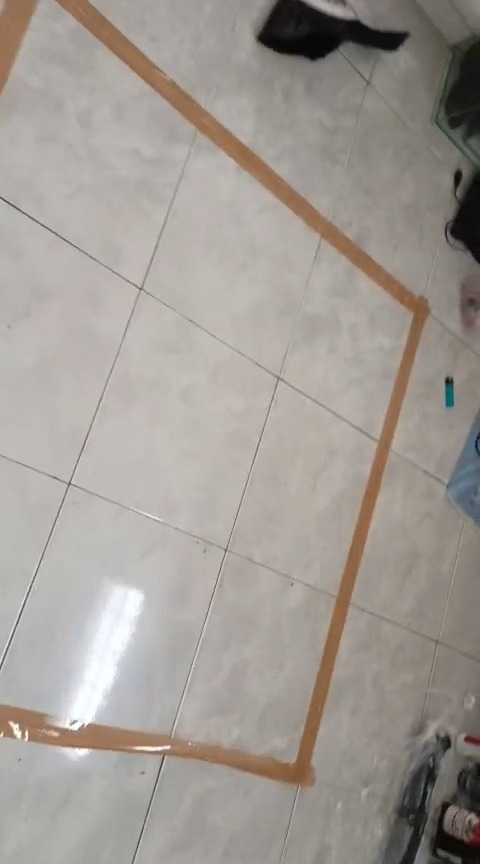floor marking: (0, 0, 428, 785), (0, 0, 32, 86)
